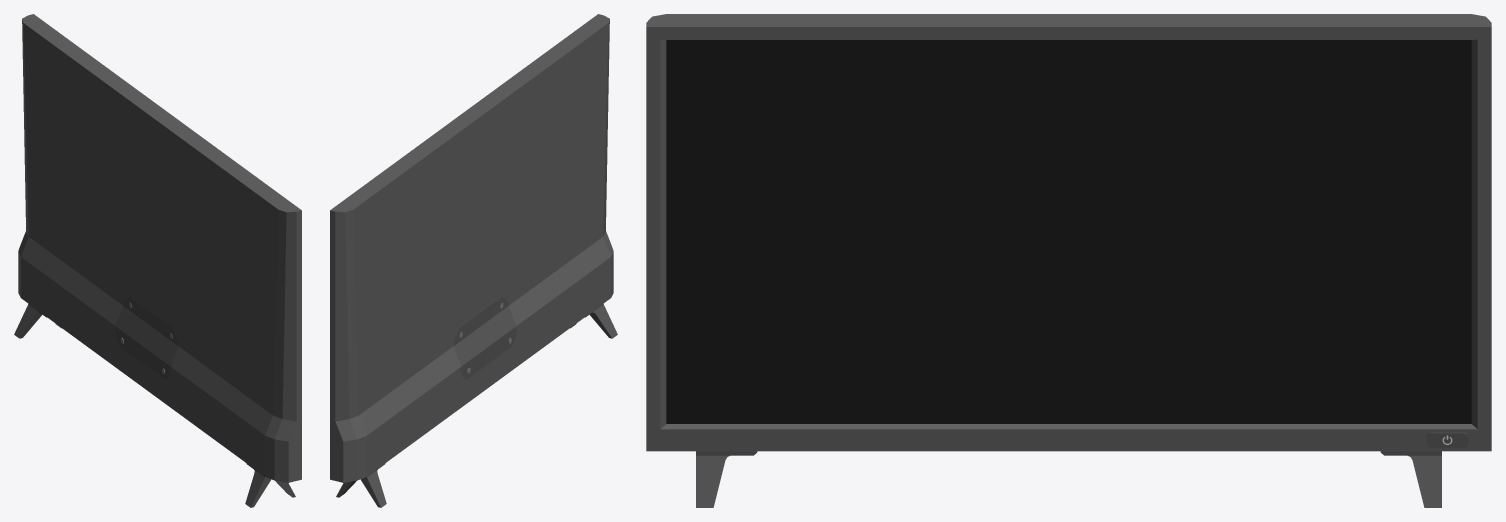
The model's file is flatscreen-tv.glb.
3 views of the same model, side by side, from view 1: azimuth 30°, elevation 25°; view 2: azimuth 150°, elevation 25°; view 3: azimuth 270°, elevation 25° (orthographic). The views are drawn at different scales.
Parts seen in each view (by area): view 1: TV_Cube; view 2: TV_Cube; view 3: TV_Cube.
Part boxes in pixels (box(x1,y1,x2,y2)): TV_Cube: box(14, 14, 301, 507); TV_Cube: box(330, 14, 617, 507); TV_Cube: box(646, 14, 1491, 507).
Bounding box in the file's own units: 0.176 × 1.12 × 1.81.
4 materials, 4 textured.
